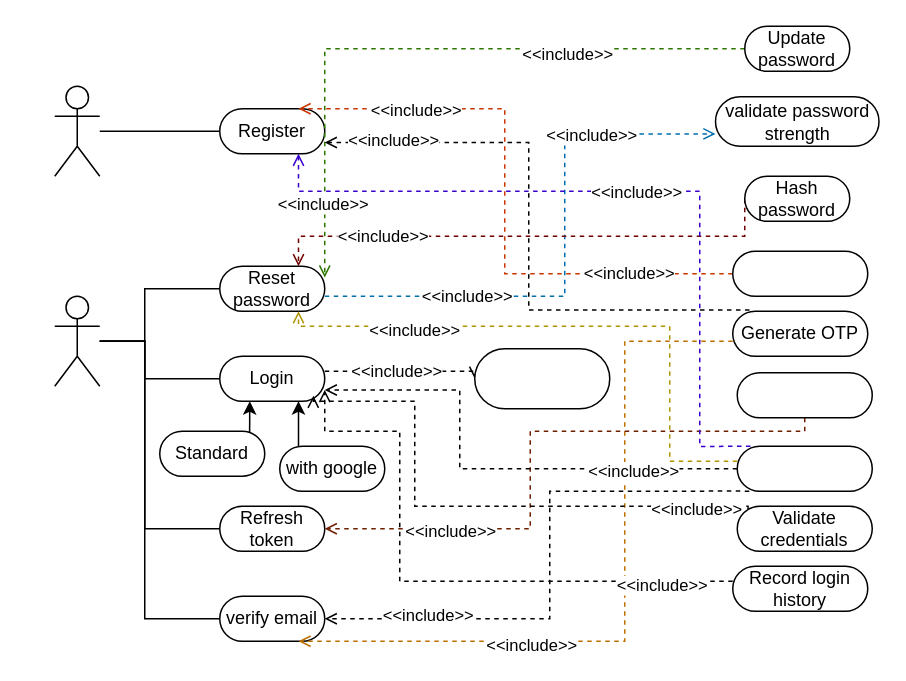
Some shapes in this 906 by 681 pixel diagram are drawn without their labels. The shapes that lost their labels are listed below. From the top down, each one's box as (x1, y1, x2, y2) in pixels, then its label:
(53, 85, 100, 176): Unregistered user
(731, 250, 868, 296): Create user account
(53, 295, 100, 386): user
(473, 347, 610, 409): confirm login with otp
(736, 371, 872, 418): Verify refresh token
(736, 445, 872, 491): send email
